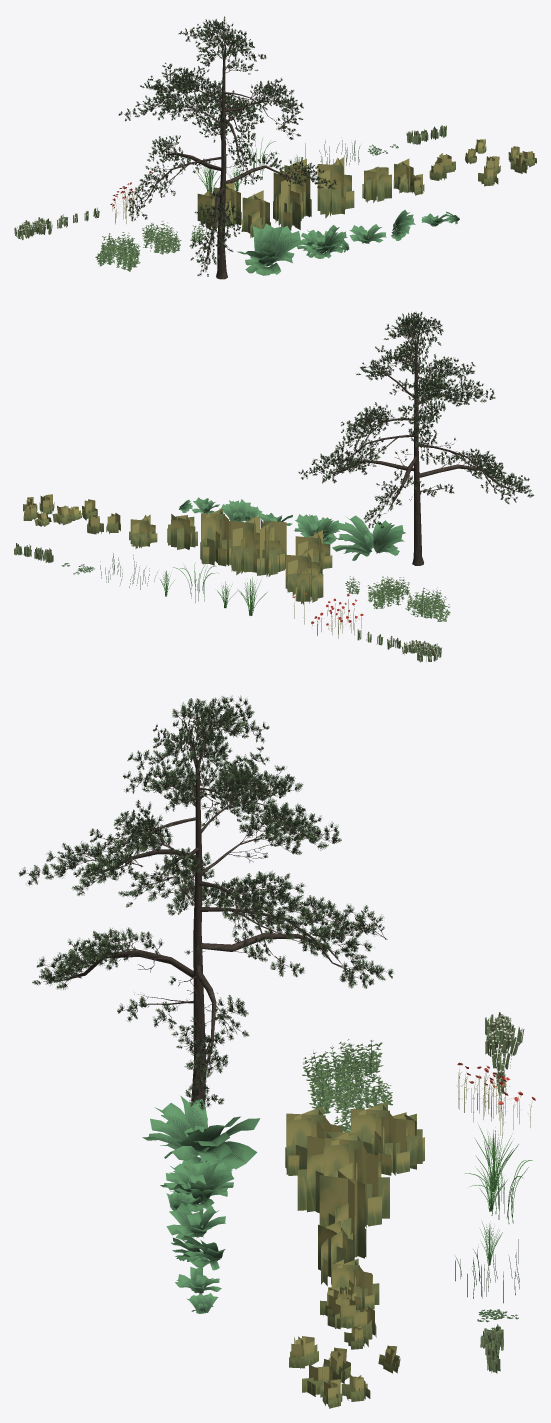
Rendered from plantOrganicsDiorama_edit_for_FBX.fbx.
3 views of the same model, one above another, from view 1: azimuth 30°, elevation 25°; view 2: azimuth 150°, elevation 25°; view 3: azimuth 270°, elevation 25° (orthographic). The views are drawn at different scales.
Visible parts, largest first — view 1: Tree01, plants08, plants07, plants25, plants06, plants11, plants24, plants05, plants10, plants02, plants04, flowers06 (+5 smaller); view 2: Tree01, plants07, plants08, plants25, plants06, plants11, plants05, plants10, plants02, plants24, plants04, plants22 (+4 smaller); view 3: Tree01, plants08, plants07, plants25, plants06, plants24, plants10, plants02, plants11, plants04, plants01, plants05 (+6 smaller).
Boxes of the visible parts, x1,y1,x2,y2 form: Tree01: (118,16,336,279); plants08: (197,182,270,237); plants07: (273,158,311,230); plants25: (237,223,304,275); plants06: (317,157,354,218); plants11: (95,232,140,271); plants24: (297,225,349,258); plants05: (362,166,391,202); plants10: (142,220,181,254); plants02: (465,139,500,186); plants04: (393,158,424,195); flowers06: (14,217,52,240); Tree01: (298,312,534,565); plants07: (231,515,286,576); plants08: (285,530,332,604); plants25: (332,515,405,560); plants06: (200,508,231,566); plants11: (405,587,450,621); plants05: (167,514,197,549); plants10: (368,576,409,608); plants02: (34,499,97,526); plants24: (294,514,339,544); plants04: (129,514,157,548); plants22: (219,499,262,521); Tree01: (19,695,393,1119); plants08: (285,1101,424,1175); plants07: (297,1122,389,1227); plants25: (142,1095,260,1169); plants06: (319,1162,366,1259); plants24: (160,1159,234,1211); plants10: (307,1066,392,1120); plants02: (289,1324,400,1383); plants11: (302,1039,383,1091); plants04: (320,1258,379,1316); plants01: (302,1364,370,1408); plants05: (318,1220,353,1285).
Bounding box in the file's own units: 6405 × 3444 × 3760.
